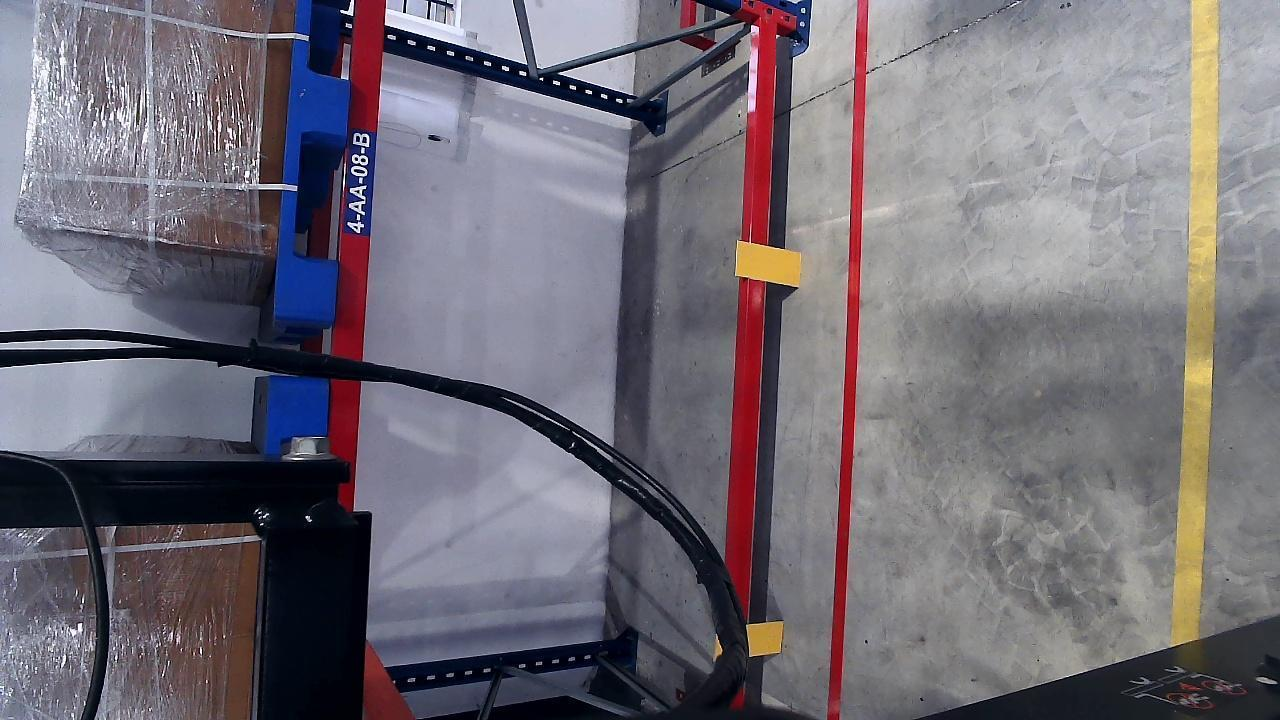red_line: (832, 10, 869, 705)
yellow_line: (1170, 6, 1219, 644)
